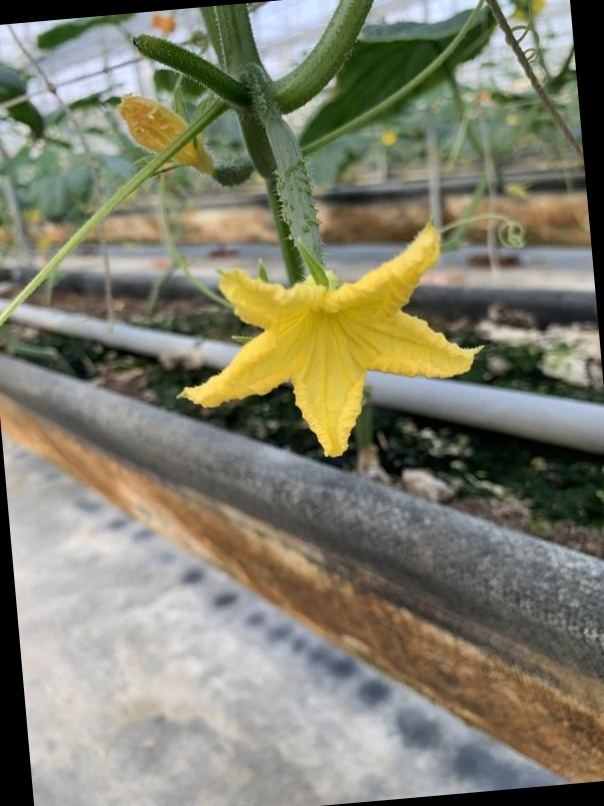flowering: (156, 95, 482, 459)
